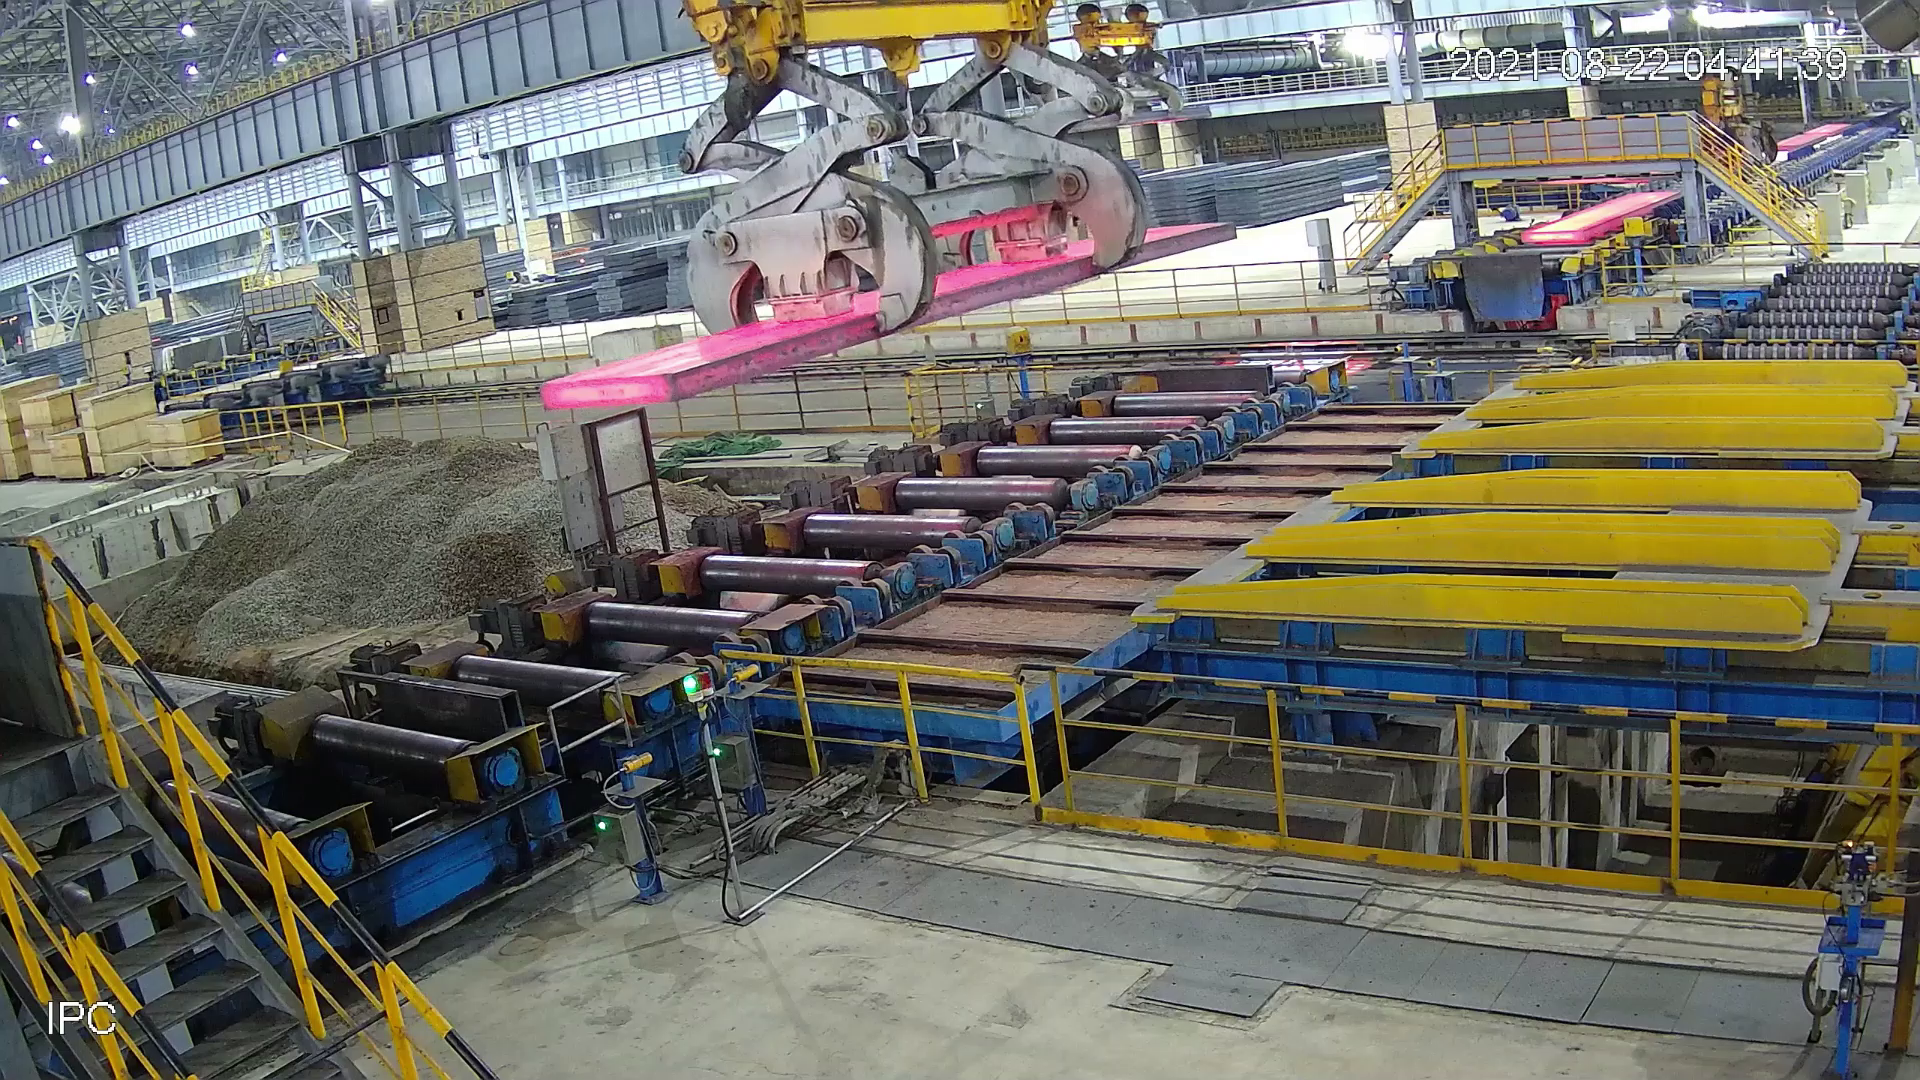craneandslab: (535, 1, 1238, 415)
slab: (1523, 189, 1681, 245)
